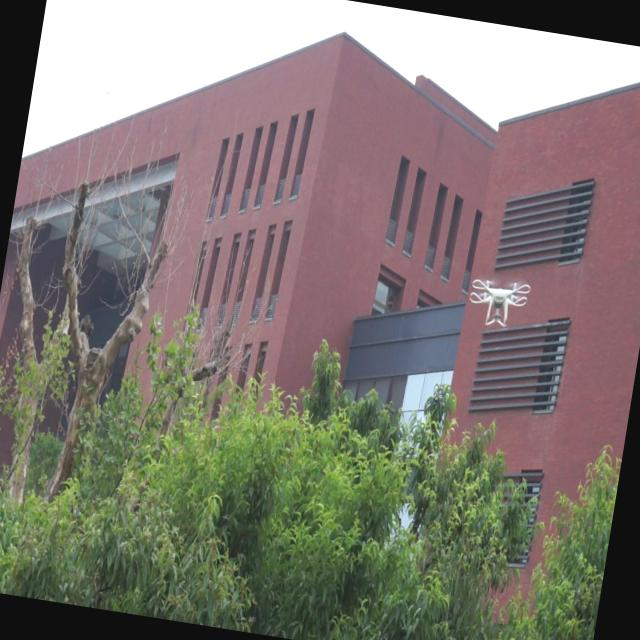drone: (464, 276, 534, 338)
